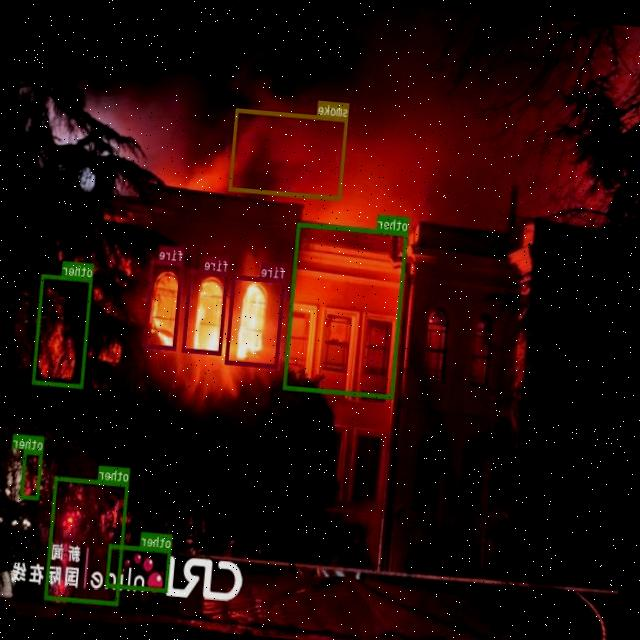fire: (225, 274, 286, 368), (182, 268, 230, 354), (143, 258, 184, 350)
smoke: (228, 106, 348, 200)
